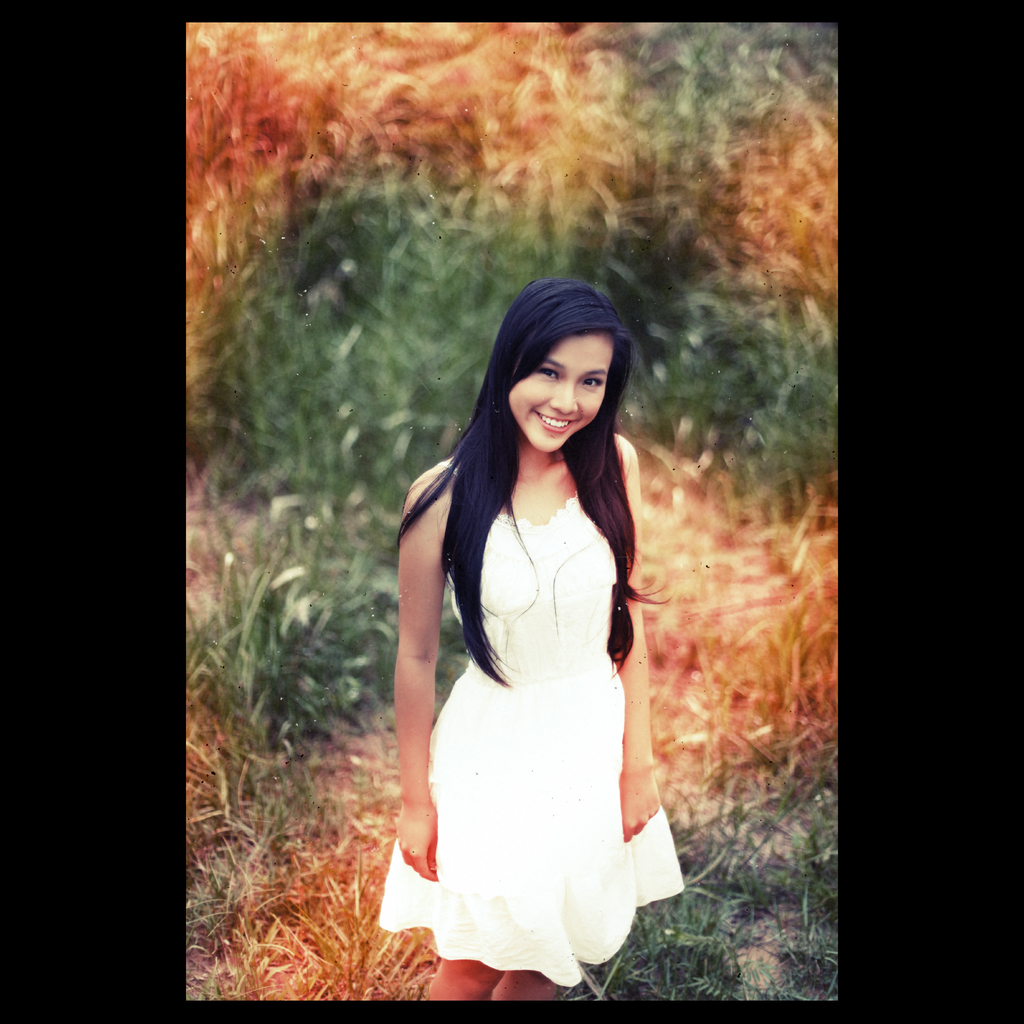Human_hand: (623, 760, 662, 844), (396, 809, 437, 879)
